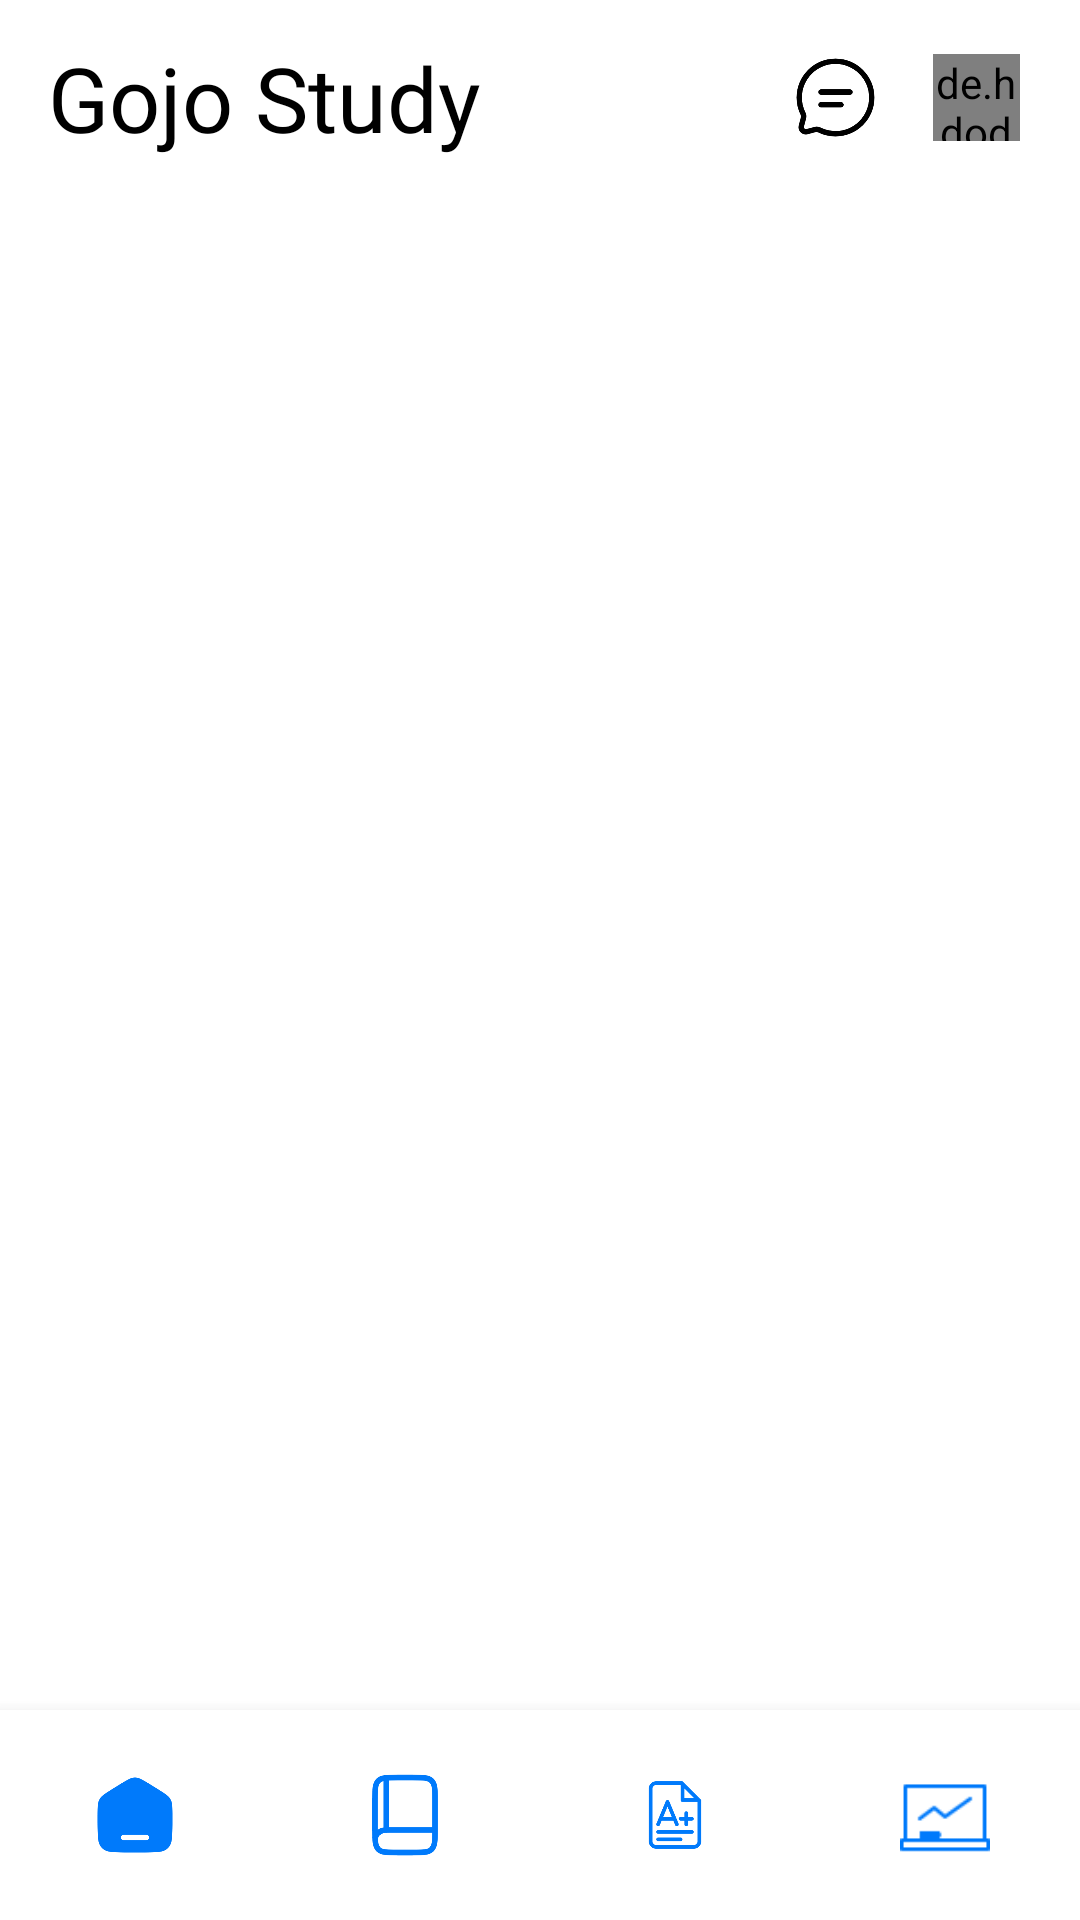

Icon bounding boxes for this 1080 x 1920 phone screenshot, format [left=x1, top=y1, right=x2, bottom=y2]:
chat: [left=796, top=58, right=875, bottom=137]
